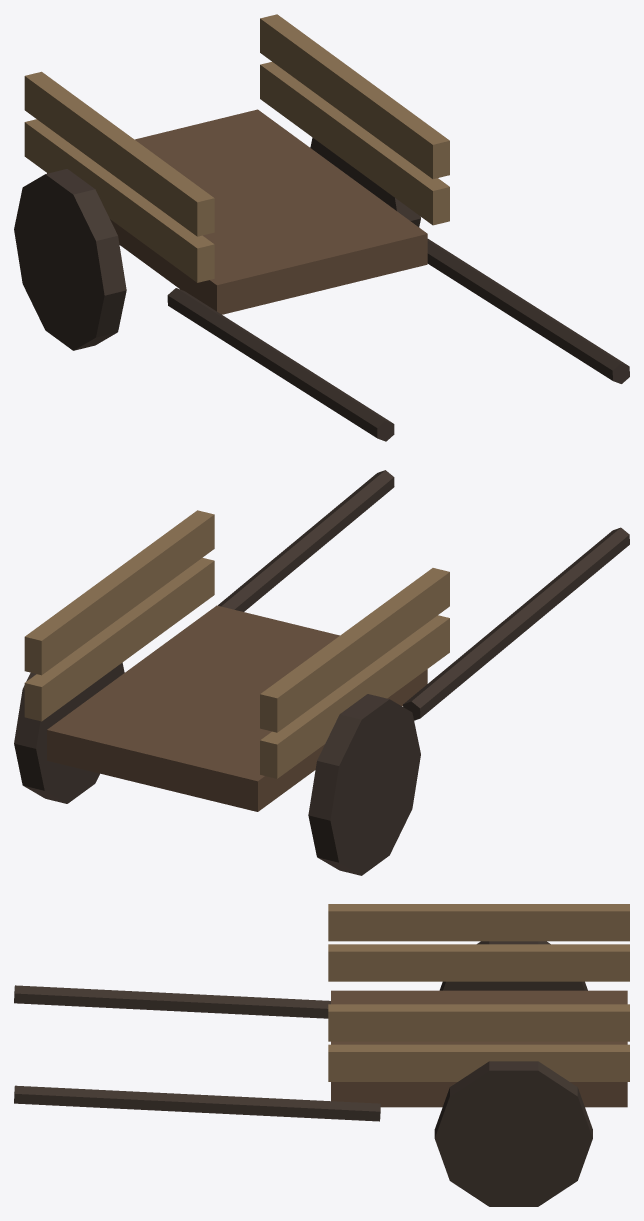
Rendered from handcart.glb.
The picture shows the model from 3 angles, top to bottom: view 1: azimuth 30°, elevation 25°; view 2: azimuth 150°, elevation 25°; view 3: azimuth 270°, elevation 25°; orthographic projection. The views are drawn at different scales.
Parts seen in each view (by area): view 1: cart bed, cart wheel, cart side.001, cart side.003, cart side.002, cart side, cart shaft, cart shaft.001, cart wheel.001; view 2: cart bed, cart wheel, cart side.003, cart side.001, cart side.002, cart side, cart shaft, cart wheel.001, cart shaft.001; view 3: cart wheel.001, cart side, cart side.001, cart side.003, cart side.002, cart bed, cart shaft.001, cart shaft, cart wheel.
Boxes of the visible parts, box(x1,y1,x2,y2) form: cart bed: box(47, 109, 427, 314); cart wheel: box(14, 169, 126, 350); cart side.001: box(24, 71, 214, 236); cart side.003: box(260, 14, 449, 178); cart side.002: box(260, 62, 449, 225); cart side: box(24, 119, 214, 282); cart shaft: box(167, 288, 394, 441); cart shaft.001: box(427, 239, 629, 383); cart wheel.001: box(310, 137, 420, 227); cart bed: box(47, 605, 427, 811); cart wheel: box(308, 694, 420, 875); cart side.003: box(24, 510, 214, 675); cart side.001: box(260, 568, 449, 732); cart side.002: box(24, 557, 214, 721); cart side: box(260, 615, 449, 778); cart shaft: box(403, 527, 629, 720); cart wheel.001: box(14, 662, 124, 803); cart shaft.001: box(218, 470, 394, 611); cart wheel.001: box(434, 1061, 592, 1206); cart side: box(328, 944, 629, 981); cart side.001: box(328, 904, 629, 941); cart side.003: box(328, 1004, 629, 1041); cart side.002: box(328, 1044, 629, 1081); cart bed: box(331, 990, 627, 1107); cart shaft.001: box(14, 1085, 380, 1121); cart shaft: box(14, 985, 330, 1018); cart wheel: box(439, 941, 587, 990).
Size of the model in its own units: 0.645 by 0.4057 by 1.25.
